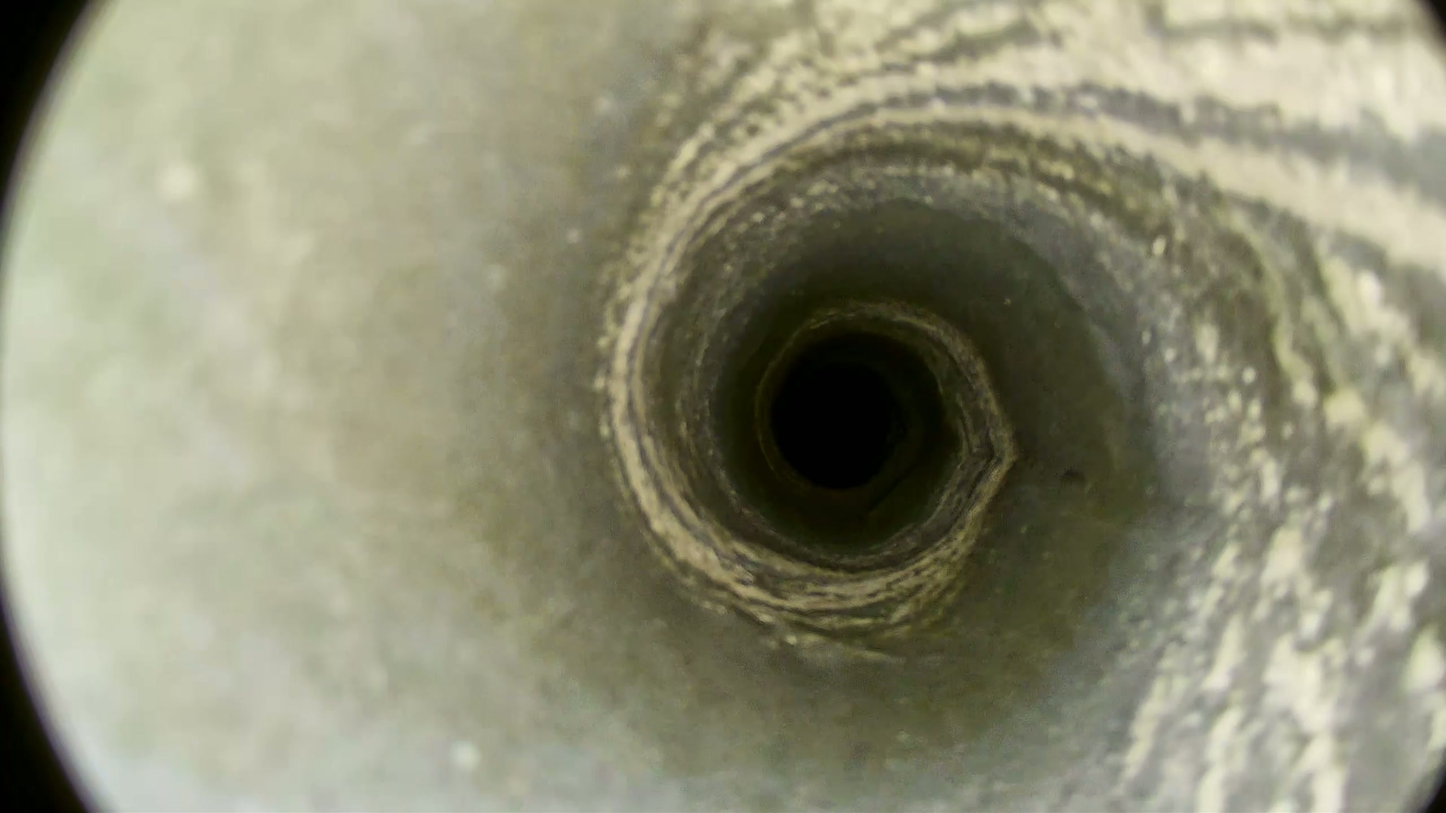hole: (778, 368, 893, 490)
